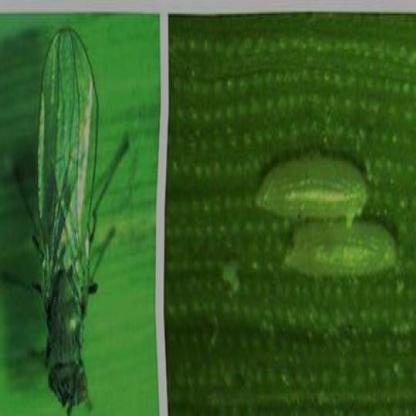whorl-maggot: (249, 151, 372, 223), (278, 218, 406, 284)
